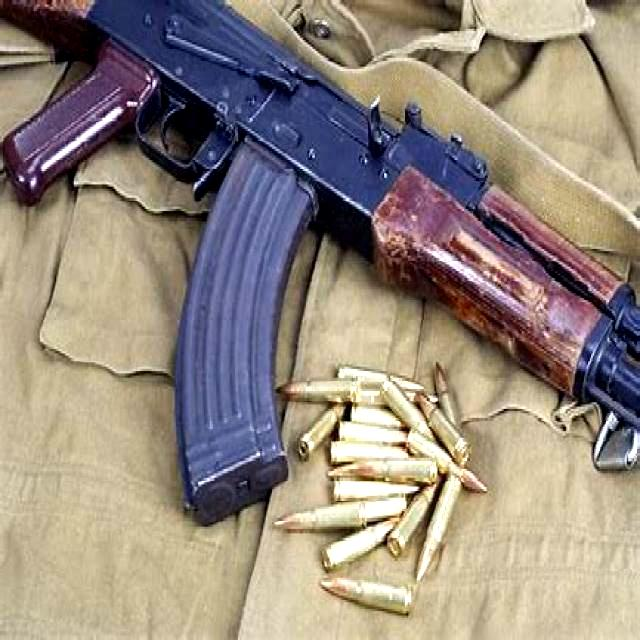ak: (1, 1, 640, 523)
